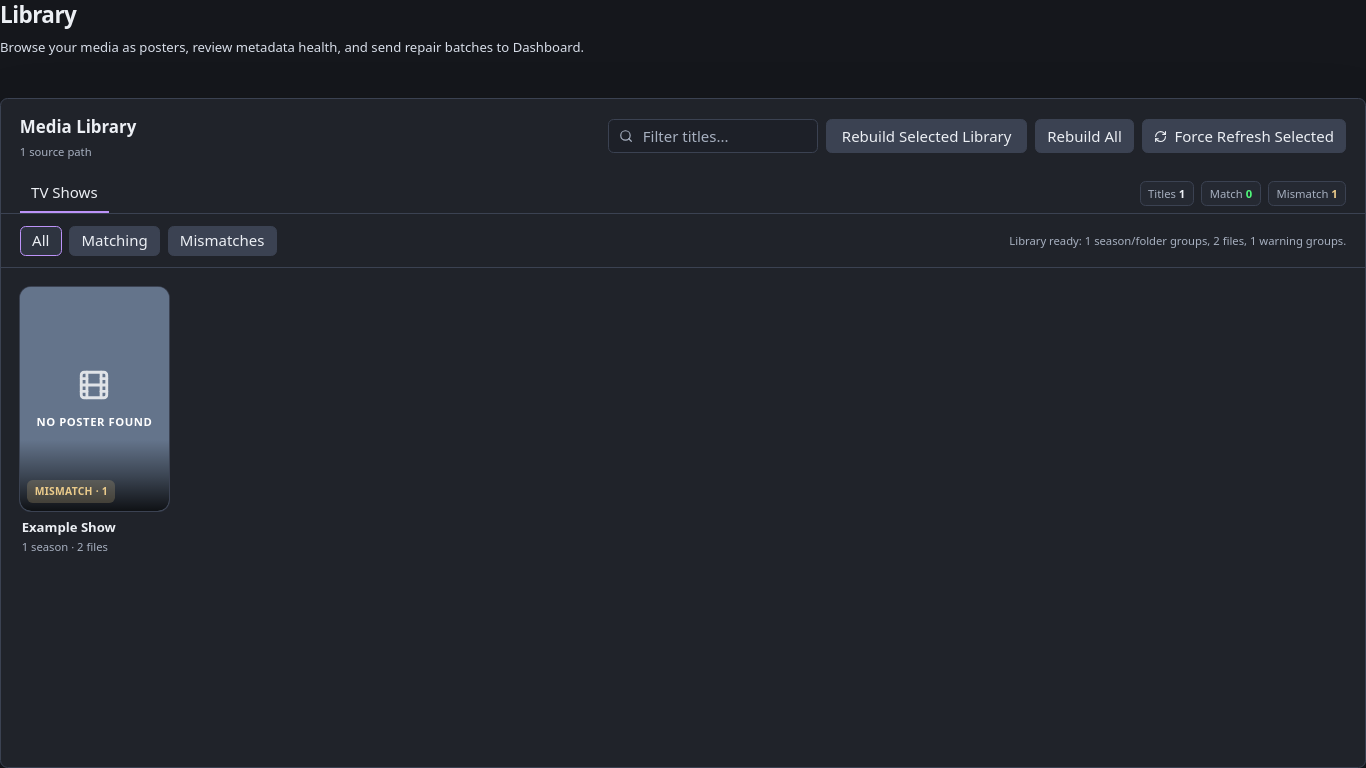
Library poster workflow › replaces the previous Dashboard scan during a mismatch handoff
Click the button with aria-label "open example show library details" at [94, 420], box [20,287,169,554]
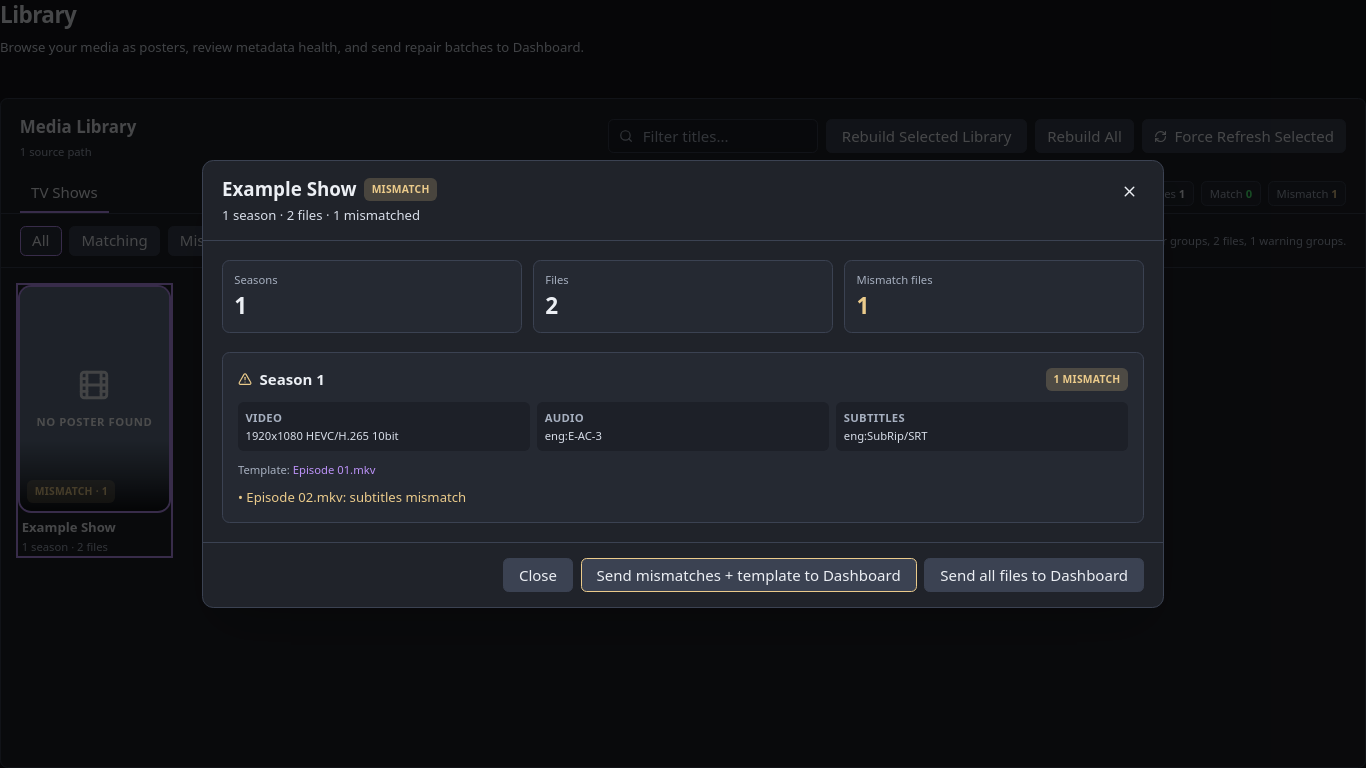
Click the button "Send mismatches + template to Dashboard" at [749, 575], box [581,558,917,592]
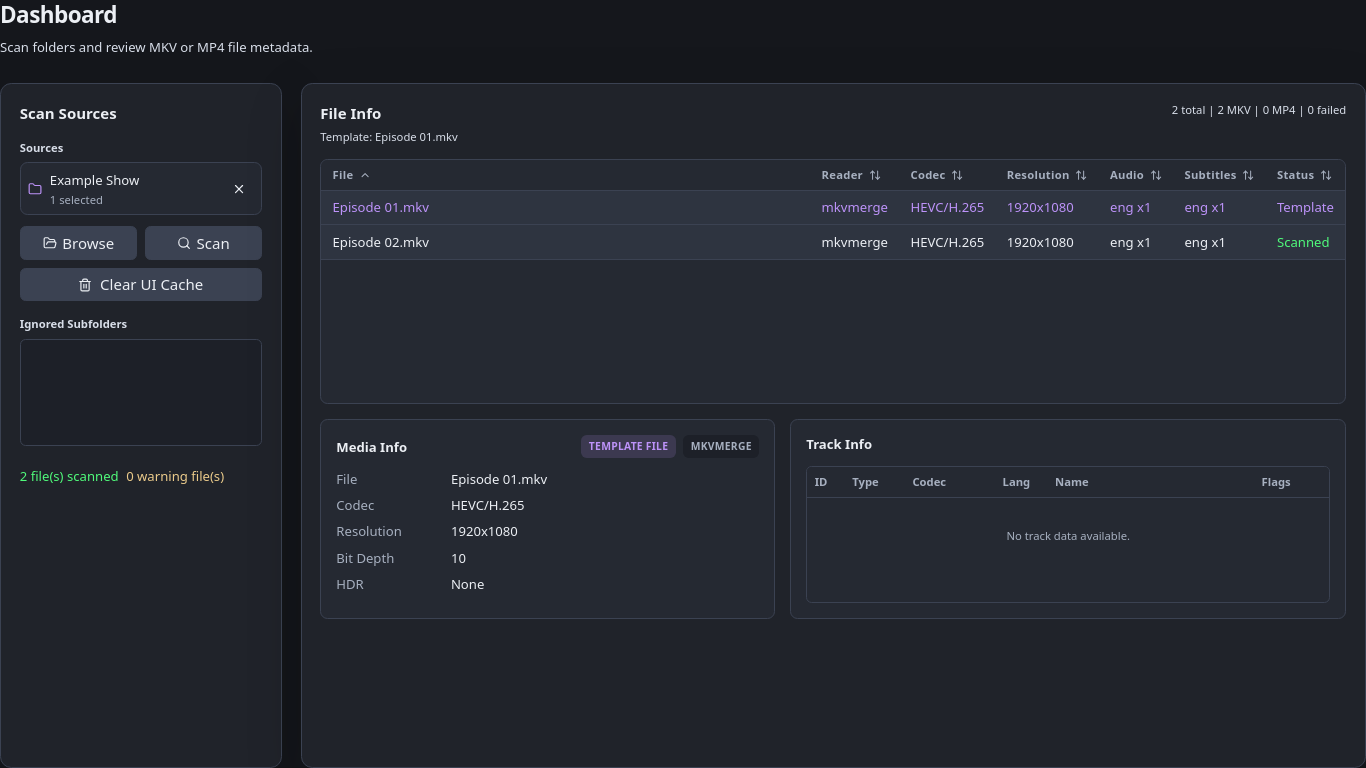
Check: the heading "Dashboard" is shown, box [0,0,117,30]
Check: the row "Episode 01.mkv" is shown, box [321,190,1345,225]
